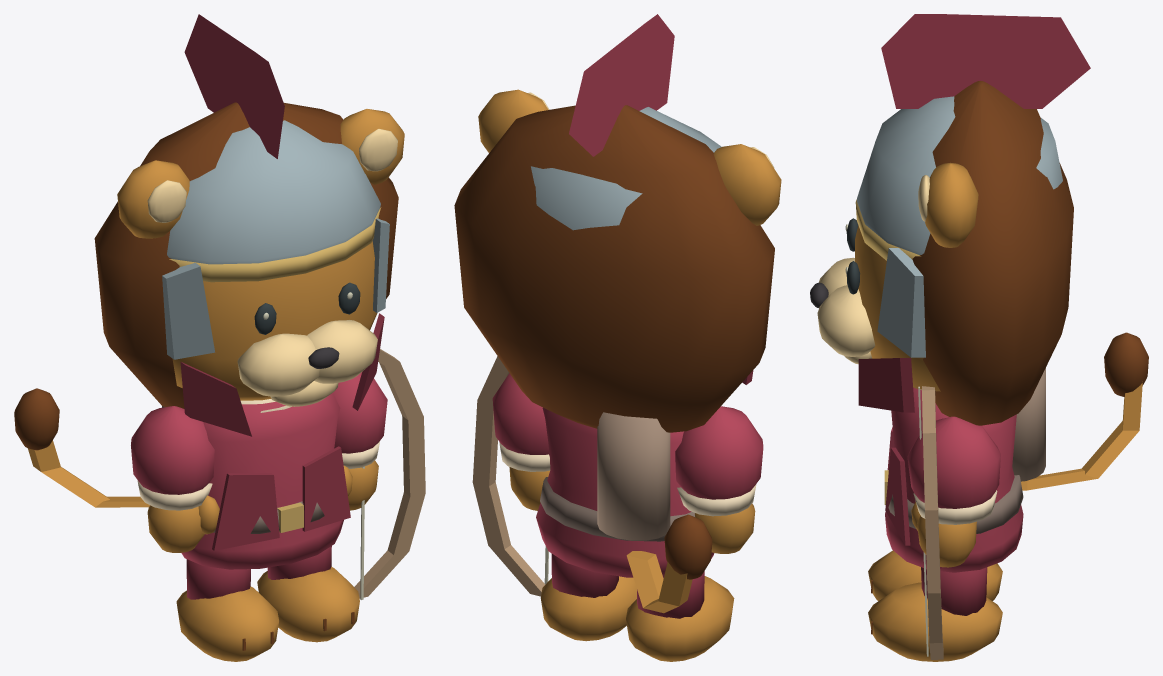
The model's file is archer.glb.
3 views of the same model, side by side, from view 1: azimuth 30°, elevation 25°; view 2: azimuth 150°, elevation 25°; view 3: azimuth 270°, elevation 25° (orthographic). The views are drawn at different scales.
Parts seen in each view (by area): view 1: Regional helmet, Lion full mane, Short folded tunic, Animal cheek head, Roman horsehair fan, Puff sleeve, Soft animal paw, Curved bow, Soft animal paw.001, Coat fold, Lion muzzle, Roman cheekplate (+21 smaller); view 2: Lion full mane, Short folded tunic, Quiver leather, Roman horsehair fan, Puff sleeve, Regional helmet, Curved bow, Soft animal paw, Soft animal paw.001, Lion round ear, Puff sleeve.001, Curved animal tail (+9 smaller); view 3: Lion full mane, Roman horsehair fan, Regional helmet, Short folded tunic, Soft animal paw.001, Puff sleeve.001, Roman cheekplate.001, Curved bow, Lion round ear.001, Animal cheek head, Lion muzzle.001, Hood cheek cowl R (+11 smaller).
Part boxes in pixels (x1,y1,x2,y2): Regional helmet: (167, 120, 380, 264); Lion full mane: (94, 102, 398, 408); Short folded tunic: (181, 393, 343, 569); Animal cheek head: (172, 241, 377, 400); Roman horsehair fan: (184, 14, 284, 158); Puff sleeve: (131, 406, 214, 494); Soft animal paw: (176, 586, 278, 661); Curved bow: (354, 349, 425, 598); Soft animal paw.001: (257, 566, 359, 642); Coat fold: (212, 473, 279, 550); Lion muzzle: (237, 333, 319, 396); Roman cheekplate: (162, 263, 215, 359); Lion full mane: (454, 105, 774, 432); Short folded tunic: (536, 407, 714, 577); Quiver leather: (597, 412, 670, 540); Roman horsehair fan: (569, 14, 674, 156); Puff sleeve: (675, 406, 763, 499); Regional helmet: (531, 107, 721, 230); Curved bow: (472, 356, 545, 596); Soft animal paw: (626, 576, 734, 661); Soft animal paw.001: (540, 576, 636, 641); Lion round ear: (713, 144, 781, 225); Puff sleeve.001: (492, 373, 548, 454); Curved animal tail: (626, 551, 692, 613); Lion full mane: (912, 81, 1073, 425); Roman horsehair fan: (881, 14, 1090, 108); Regional helmet: (857, 96, 1062, 254); Short folded tunic: (885, 387, 1023, 572); Soft animal paw.001: (868, 582, 1002, 661); Puff sleeve.001: (907, 416, 1000, 508); Roman cheekplate.001: (877, 248, 925, 357); Curved bow: (922, 386, 943, 659); Lion round ear.001: (925, 162, 978, 247); Animal cheek head: (855, 225, 940, 391); Lion muzzle.001: (817, 285, 875, 356); Hood cheek cowl R: (858, 358, 914, 412).
Bounding box in the file's own units: 1.01 × 1.82 × 0.905.
